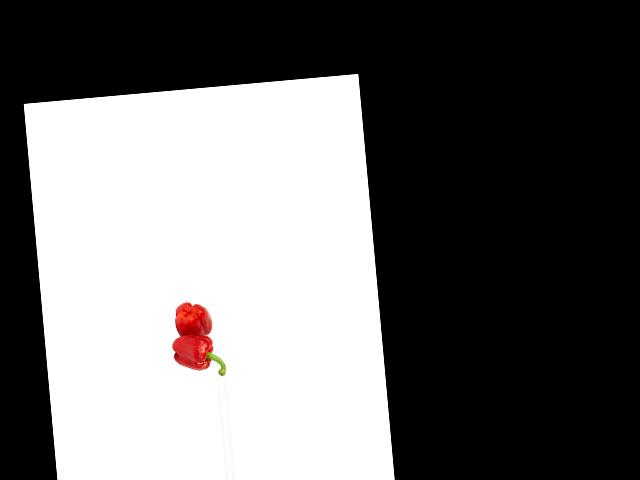bell_pepper: (171, 300, 215, 338)
